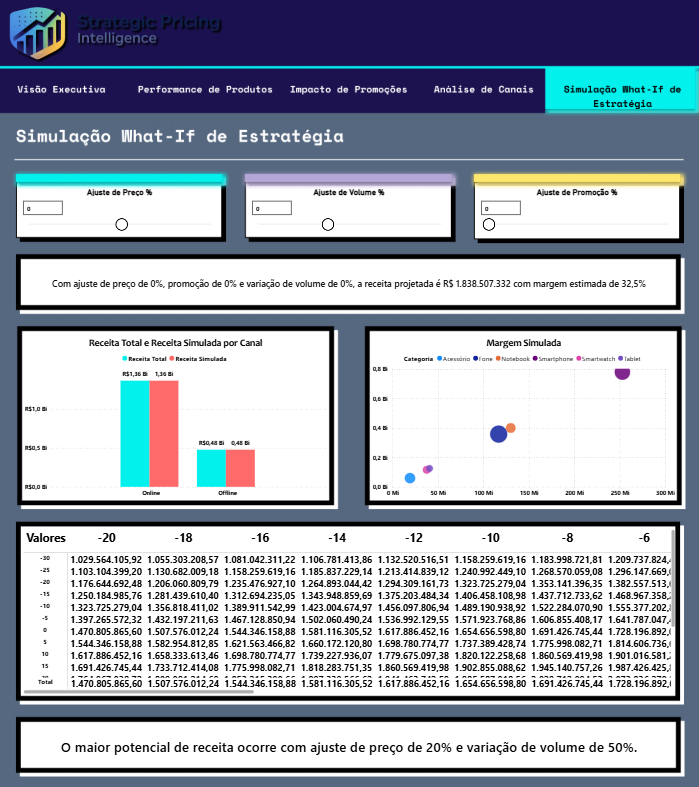

The page's visual inventory and layout, read from the dashboard file:
{"tool":"powerbi","page":{"name":"Simulação What-If de Estratégia","canvas":[1460,1644],"ordinal":4},"visuals":[{"type":"slicer","title":"Ajuste de Preço %","fields":{"Values":["Ajuste Preço %.Ajuste Preço %"]},"box":[38.2,390,427.3,105.5],"z":0},{"type":"slicer","title":"Ajuste de Promoção %","fields":{"Values":["Ajuste Promoção %.Ajuste Promoção %"]},"box":[991.8,390,425.5,105.5],"z":1000},{"type":"slicer","title":"Ajuste de Volume %","fields":{"Values":["Ajuste Volume %.Ajuste Volume %"]},"box":[514.5,390,429.1,105.5],"z":2000},{"type":"clusteredColumnChart","title":"Receita Total e Receita Simulada por Canal","fields":{"Category":["Dim_Canal.Tipo"],"Y":["Fato_Vendas.Receita Total","Fato_Vendas.Receita Simulada"]},"box":[48.8,701.2,640,342.5],"z":3000},{"type":"scatterChart","title":"Margem Simulada","fields":{"X":["Fato_Vendas.Margem Simulada"],"Y":["Fato_Vendas.Receita Simulada"],"Size":["Ajuste Volume %.Volume Simulado"],"Series":["Dim_Produto.Categoria"]},"box":[772.5,701.2,640,342.5],"z":4000},{"type":"cardVisual","fields":{"Data":["Fato_Vendas.Insight Estratégico"]},"box":[45,538.8,1367.5,98.8],"z":5000},{"type":"pivotTable","fields":{"Values":["Fato_Vendas.Receita Heatmap"],"Columns":["Tabela_Preco.Value"],"Rows":["Tabela_Volume.Value"]},"box":[45,1098.8,1367.5,352.5],"z":6000},{"type":"cardVisual","fields":{"Data":["Fato_Vendas.Insight Preço Ótimo"]},"box":[45,1503.8,1367.5,98.8],"z":7000}]}

Visuals, with their boxes in screenshot pixels (x1, y1, x2, y2), scaled from the page's 1460x1644 canvas onto the 699x787 screenshot:
"Ajuste de Preço %" slicer: x1=18, y1=187, x2=223, y2=237
"Ajuste de Promoção %" slicer: x1=475, y1=187, x2=679, y2=237
"Ajuste de Volume %" slicer: x1=246, y1=187, x2=452, y2=237
"Receita Total e Receita Simulada por Canal" clusteredColumnChart: x1=23, y1=336, x2=330, y2=500
"Margem Simulada" scatterChart: x1=370, y1=336, x2=676, y2=500
cardVisual - Fato_Vendas.Insight Estratégico: x1=22, y1=258, x2=676, y2=305
pivotTable - Fato_Vendas.Receita Heatmap x Tabela_Preco.Value: x1=22, y1=526, x2=676, y2=695
cardVisual - Fato_Vendas.Insight Preço Ótimo: x1=22, y1=720, x2=676, y2=767
